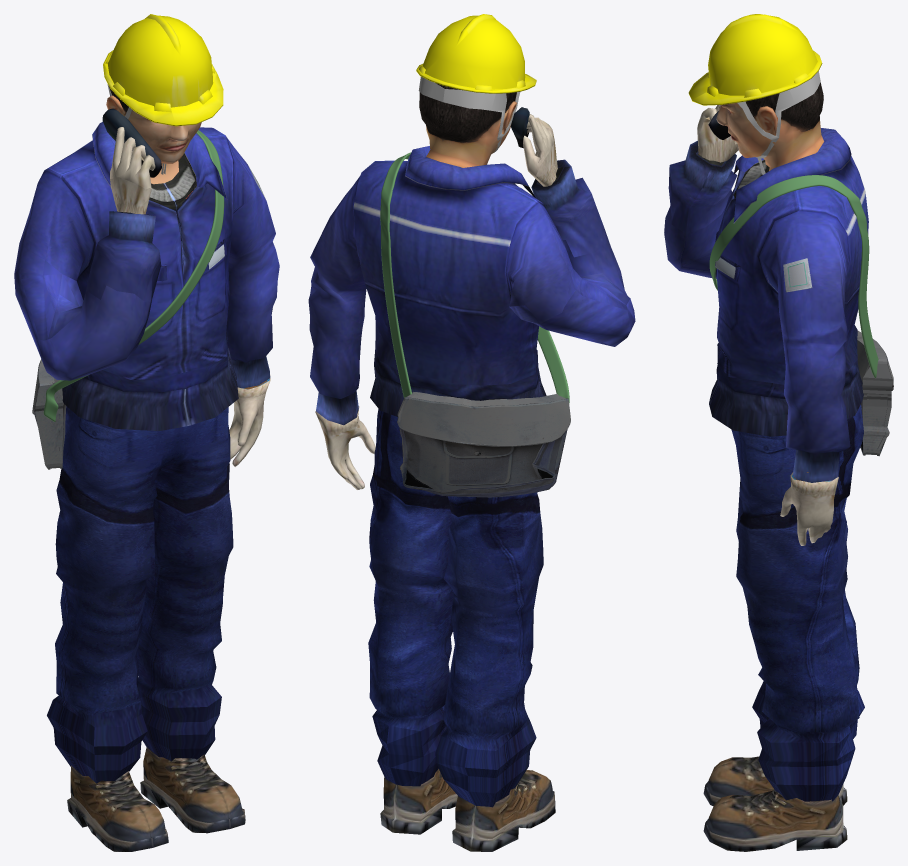
Rendered from ddh.gltf.
The picture shows the model from 3 angles, left to right: view 1: azimuth 30°, elevation 25°; view 2: azimuth 150°, elevation 25°; view 3: azimuth 270°, elevation 25°; orthographic projection.
Visible parts, largest first — view 1: Z_UP; view 2: Z_UP; view 3: Z_UP.
Part boxes in pixels (box(x1,y1,x2,y2)): Z_UP: box(14, 14, 279, 851); Z_UP: box(308, 14, 635, 851); Z_UP: box(664, 14, 893, 851).
Bounding box in the file's own units: 0.6237 × 1.73 × 0.4466.
Materials: 6 (5 with a texture image).
